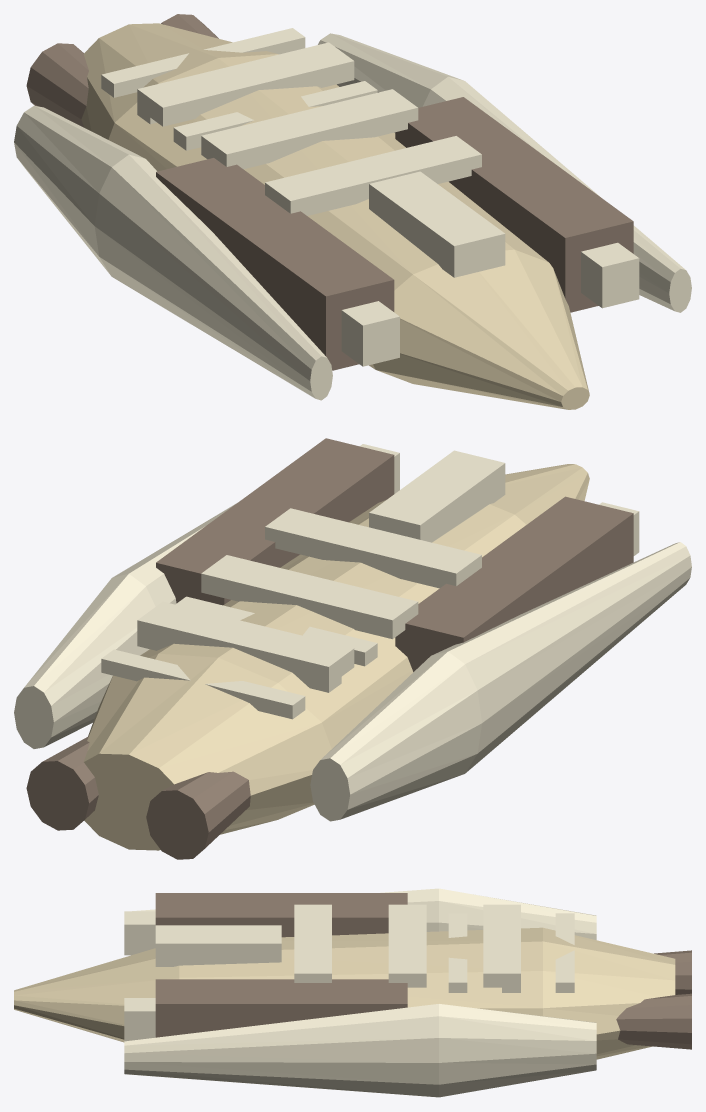
The picture shows the model from 3 angles, top to bottom: view 1: azimuth 30°, elevation 25°; view 2: azimuth 150°, elevation 25°; view 3: azimuth 270°, elevation 25°; orthographic projection. The views are drawn at different scales.
Size of the model in its own units: 2.23 by 0.9222 by 4.56.
